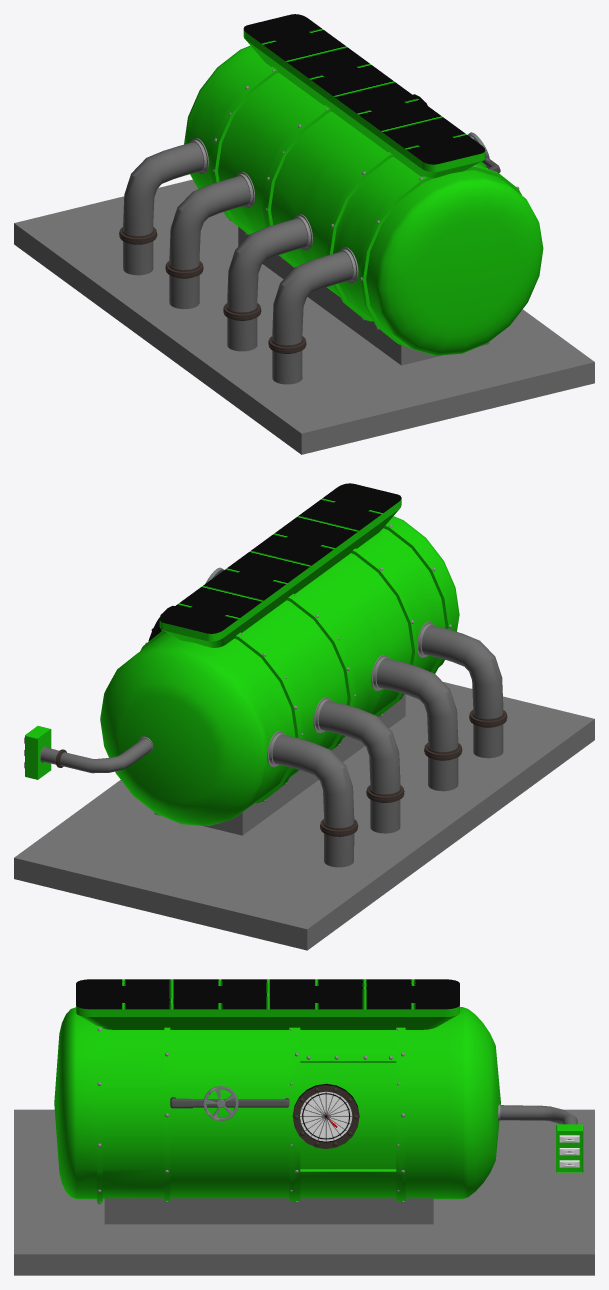
The model's file is Green.fbx.
3 views of the same model, one above another, from view 1: azimuth 30°, elevation 25°; view 2: azimuth 150°, elevation 25°; view 3: azimuth 270°, elevation 25° (orthographic).
Visible parts, largest first — view 1: pCylinder21, pCube183, pCube271, pCube195, pCube204, pCube206, pCube202, pCube200; view 2: pCube183, pCylinder21, pCube271, pCube206, pCube202, pCube204, pCube195, pCube200, pCube510, pCube516; view 3: pCylinder21, pCube183, pCube271, pCube200, pCube182, pCube510, pCube516, pCube159, pCylinder22.
Boxes of the visible parts, x1,y1,x2,y2 form: pCylinder21: (184, 45, 543, 355); pCube183: (14, 179, 594, 454); pCube271: (243, 14, 485, 178); pCube195: (123, 142, 203, 275); pCube204: (227, 218, 307, 351); pCube206: (272, 251, 352, 384); pCube202: (169, 176, 249, 309); pCube200: (238, 227, 489, 365); pCube183: (14, 682, 594, 950); pCylinder21: (100, 516, 459, 825); pCube271: (159, 483, 401, 647); pCube206: (421, 625, 503, 758); pCube202: (318, 701, 400, 833); pCube204: (376, 658, 458, 791); pCube195: (272, 735, 354, 867); pCube200: (154, 694, 405, 835); pCube510: (40, 736, 153, 773); pCube516: (25, 726, 51, 779); pCylinder21: (54, 1007, 500, 1202); pCube183: (14, 1109, 594, 1275); pCube271: (76, 979, 459, 1029); pCube200: (104, 1198, 433, 1224); pCube182: (292, 1083, 359, 1148); pCube510: (498, 1104, 577, 1124); pCube516: (556, 1124, 583, 1172); pCube159: (170, 1097, 289, 1108); pCylinder22: (203, 1086, 238, 1120).
Bounding box in the file's own units: 86.86 × 64.35 × 147.
Materials: 4 (3 with a texture image).
